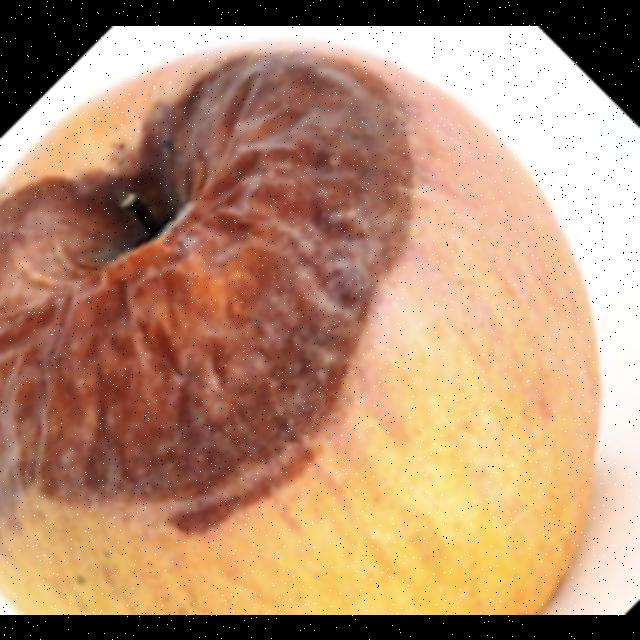Apel Segar: (221, 101, 599, 615)
Apel Tidak Segar: (0, 48, 472, 584)
